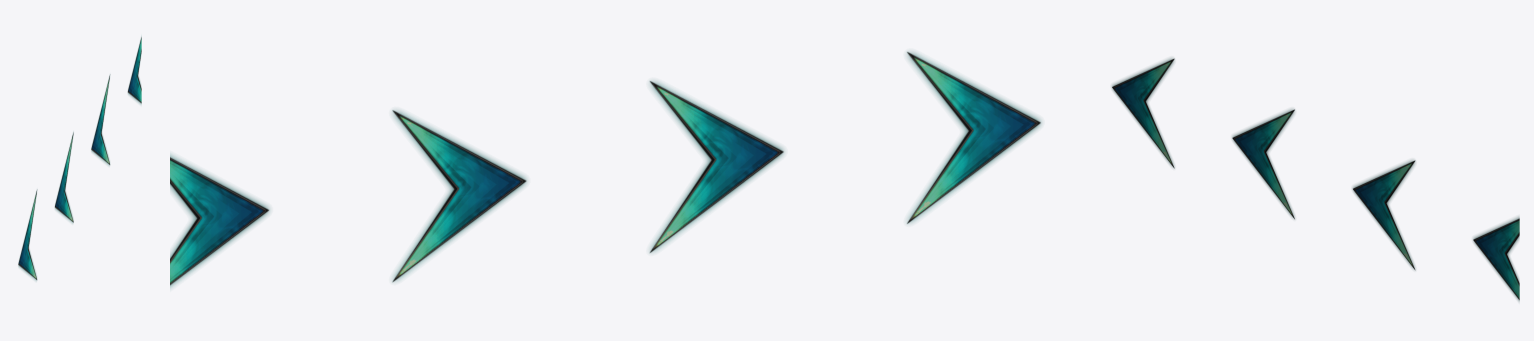
File: PanelDisplay.004.glb
3 renders of one model, left to right at view 1: azimuth 30°, elevation 25°; view 2: azimuth 150°, elevation 25°; view 3: azimuth 270°, elevation 25°, orthographic. The views are drawn at different scales.
Visible parts, largest first — view 1: blueZipper.png__; view 2: blueZipper.png__; view 3: blueZipper.png__.
Part boxes in pixels (x1,y1,x2,y2): blueZipper.png__: (18,36,141,280); blueZipper.png__: (170,51,1041,288); blueZipper.png__: (1111,58,1519,301).
Size of the model in its own units: 11.31 by 4 by 11.31.
Materials: 1 (1 with a texture image).
